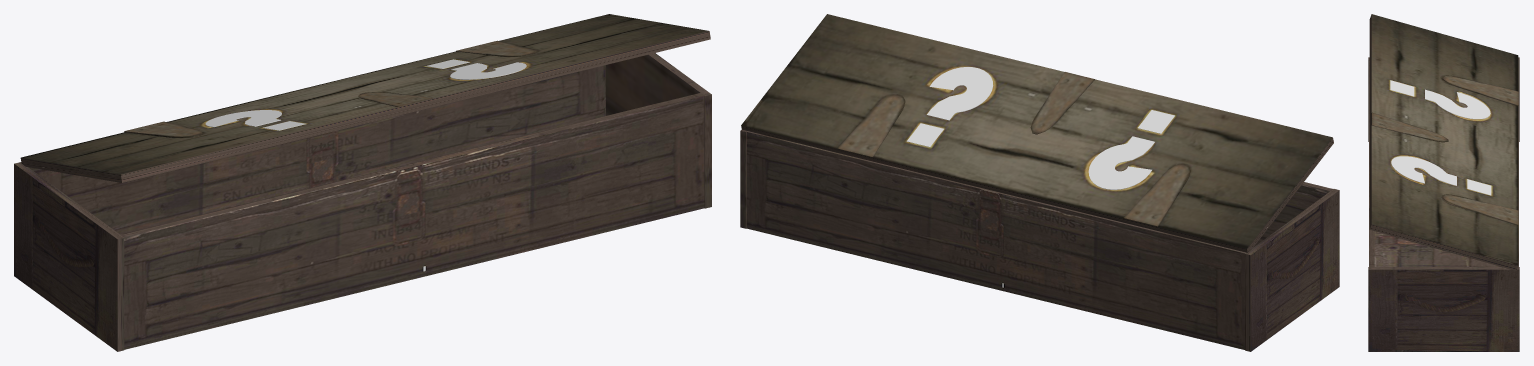
Rendered from Mystery Box 3D-1.fbx.
3 renders of one model, left to right at view 1: azimuth 30°, elevation 25°; view 2: azimuth 150°, elevation 25°; view 3: azimuth 270°, elevation 25°, orthographic. The views are drawn at different scales.
Parts seen in each view (by area): view 1: box, box cover; view 2: box cover, box; view 3: box cover, box.
Boxes of the visible parts, x1,y1,x2,y2 form: box: (14,53,711,351); box cover: (20,14,710,182); box cover: (741,14,1333,252); box: (740,129,1339,351); box cover: (1369,14,1518,270); box: (1368,57,1519,351).
Bounding box in the file's own units: 663 × 186 × 200.
3 materials, 2 textured.
